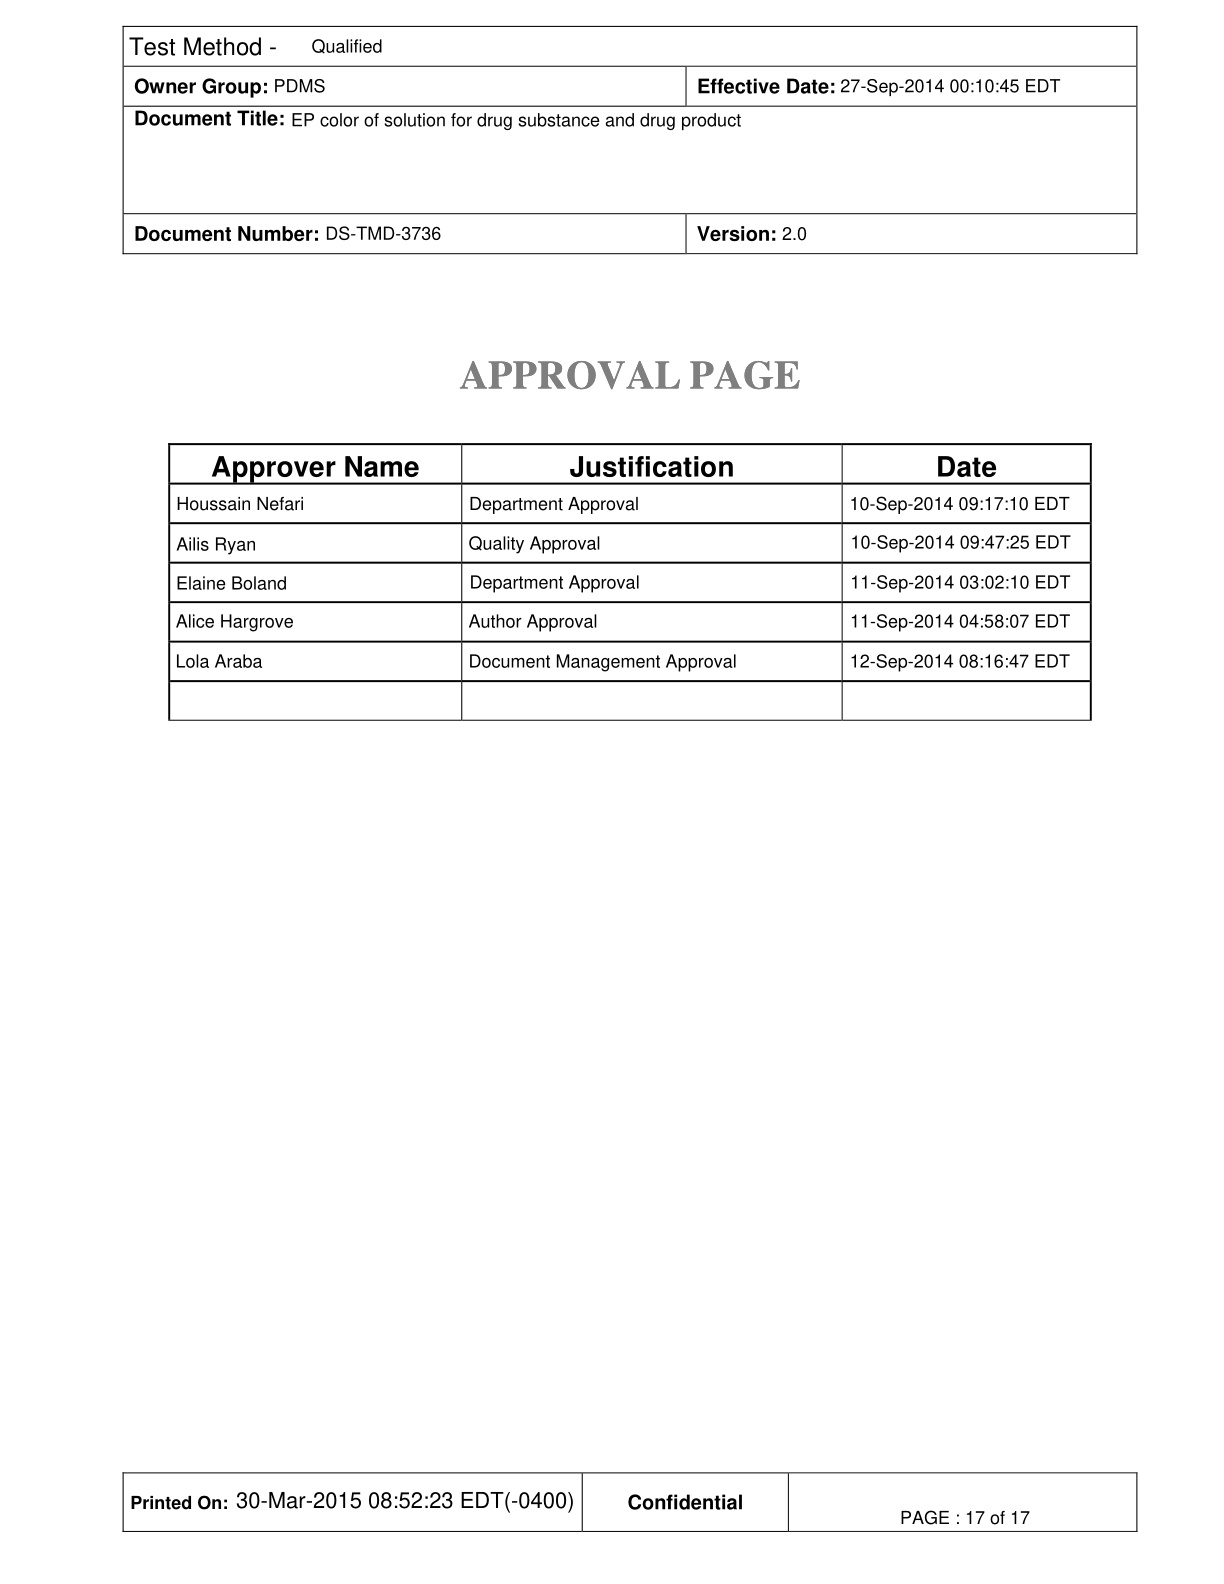full_lined: (168, 444, 1092, 723), (122, 1472, 1138, 1533)
merged_cells: (122, 24, 1138, 255)
